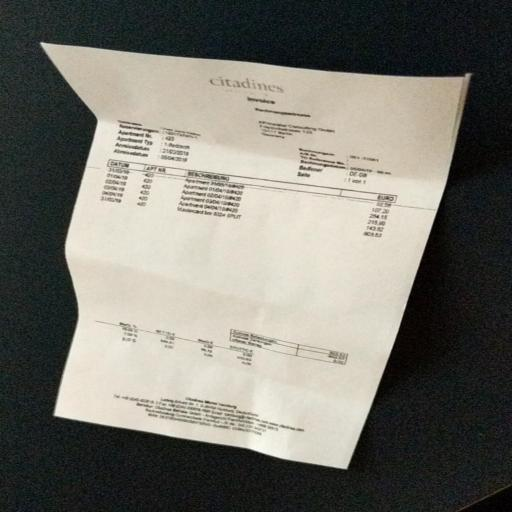paper: (23, 10, 489, 498)
